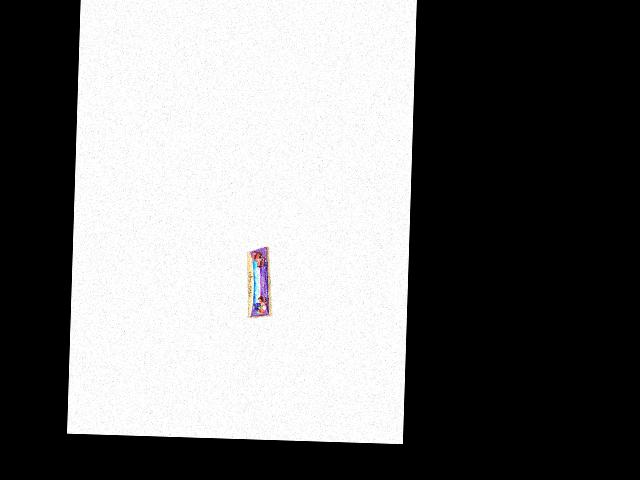chocolate: (247, 242, 274, 318)
